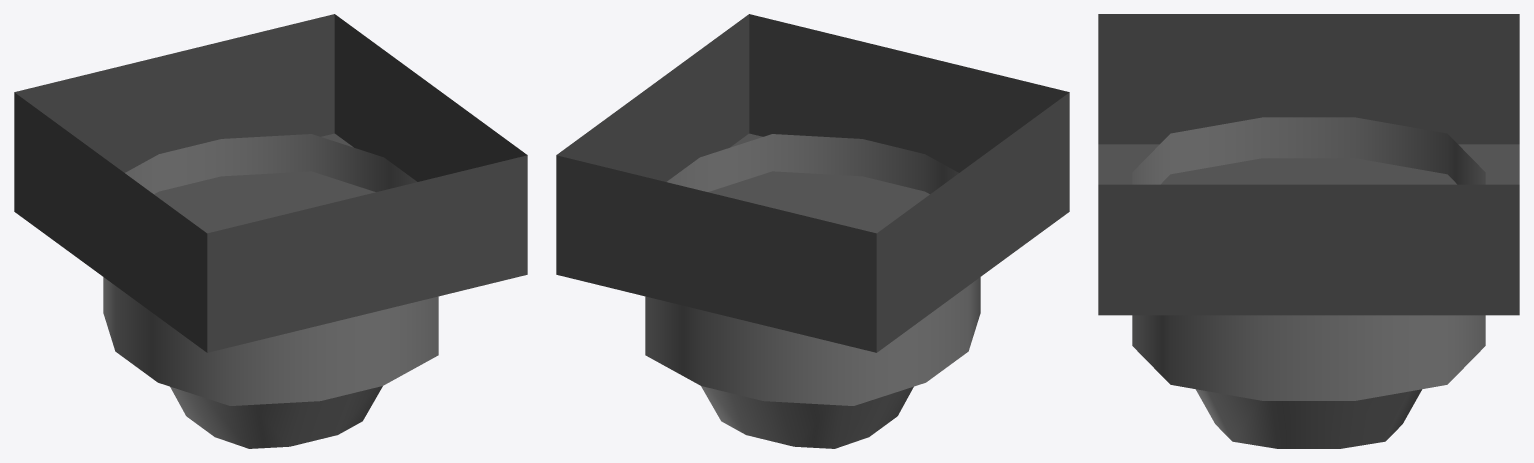
Rendered from RFan_Base.obj.
The picture shows the model from 3 angles, left to right: view 1: azimuth 30°, elevation 25°; view 2: azimuth 150°, elevation 25°; view 3: azimuth 270°, elevation 25°; orthographic projection. The views are drawn at different scales.
Visible parts, largest first — view 1: RFan_Base; view 2: RFan_Base; view 3: RFan_Base.
Boxes of the visible parts, left/top/right/bottom form: RFan_Base: left=14, top=14, right=527, bottom=448; RFan_Base: left=556, top=14, right=1069, bottom=448; RFan_Base: left=1098, top=14, right=1519, bottom=448.
Size of the model in its own units: 0.2142 by 0.1825 by 0.2234.
